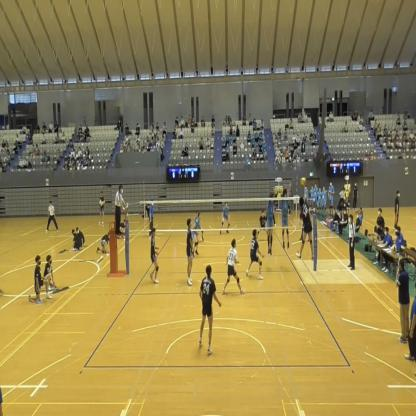spike: (295, 175, 317, 265)
